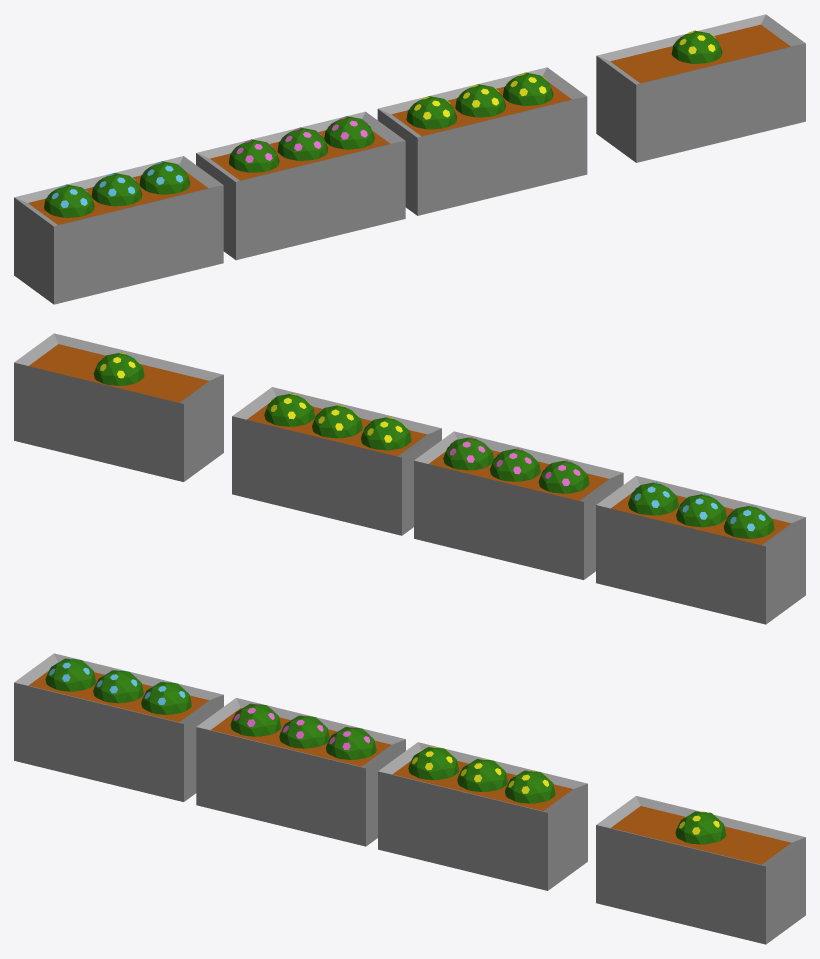
Rendered from raised flower beds.fbx.
3 views of the same model, one above another, from view 1: azimuth 30°, elevation 25°; view 2: azimuth 150°, elevation 25°; view 3: azimuth 330°, elevation 25° (orthographic).
Parts seen in each view (by area): view 1: Cube.001, Cube.003, Cube, Cube.002, Icosphere.002; view 2: Cube.001, Cube.003, Cube, Cube.002, Icosphere.002; view 3: Cube.002, Cube.003, Cube.001, Cube, Icosphere.002.
Boxes of the visible parts, <box> form: Cube.001: <box>14,156,223,304</box>; Cube.003: <box>596,14,805,162</box>; Cube: <box>196,111,405,260</box>; Cube.002: <box>377,67,587,215</box>; Icosphere.002: <box>671,30,722,63</box>; Cube.001: <box>596,476,805,624</box>; Cube.003: <box>14,333,223,481</box>; Cube: <box>414,431,623,579</box>; Cube.002: <box>232,387,441,535</box>; Icosphere.002: <box>93,352,144,385</box>; Cube.002: <box>378,742,587,890</box>; Cube.003: <box>596,796,805,944</box>; Cube.001: <box>14,653,223,801</box>; Cube: <box>196,698,405,846</box>; Icosphere.002: <box>675,811,726,844</box>.
Bounding box in the file's own units: 1635 × 196 × 152.
